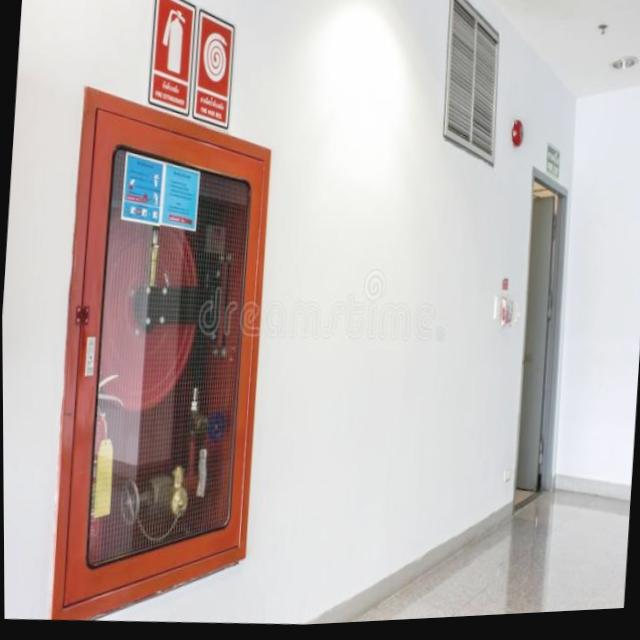FireExtinguisher: (57, 361, 131, 601)
